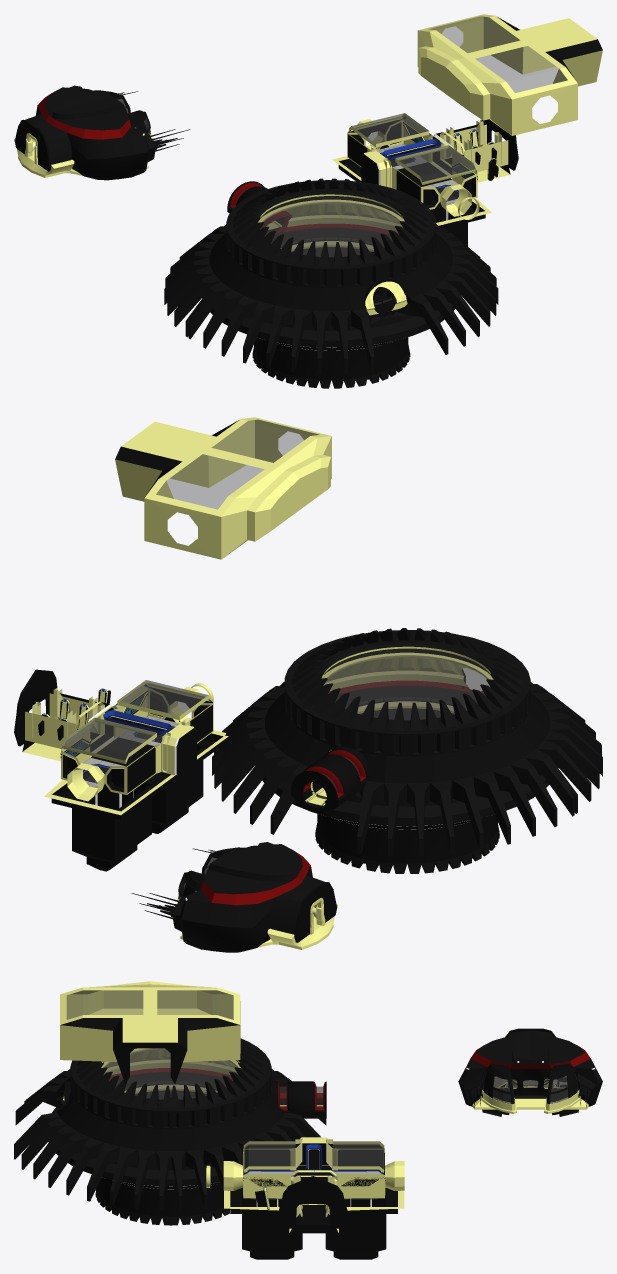
File: Salas.FBX
3 views of the same model, one above another, from view 1: azimuth 30°, elevation 25°; view 2: azimuth 150°, elevation 25°; view 3: azimuth 270°, elevation 25° (orthographic). The views are drawn at different scales.
Parts seen in each view (by area): view 1: Sala01, Sala00, RoomRoof, Crystal, Sala02, Cylinder002, Line011, Line008; view 2: Sala01, Sala00, RoomRoof, Crystal, Cylinder002, Sala02, Line008, Line011; view 3: Sala01, Sala00, RoomRoof, Sala02, Crystal, Line008, Cylinder002.
Part boxes in pixels (x1=…): Sala01: x1=164, y1=178, x2=498, y2=388; Sala00: x1=332, y1=14, x2=602, y2=246; RoomRoof: x1=25, y1=85, x2=190, y2=180; Crystal: x1=258, y1=196, x2=404, y2=257; Sala02: x1=14, y1=90, x2=151, y2=177; Cylinder002: x1=227, y1=181, x2=291, y2=234; Line011: x1=14, y1=119, x2=51, y2=171; Line008: x1=481, y1=119, x2=518, y2=170; Sala01: x1=212, y1=628, x2=602, y2=873; Sala00: x1=22, y1=417, x2=331, y2=871; RoomRoof: x1=131, y1=842, x2=325, y2=952; Crystal: x1=322, y1=649, x2=492, y2=720; Cylinder002: x1=291, y1=748, x2=367, y2=811; Sala02: x1=176, y1=847, x2=337, y2=949; Line008: x1=14, y1=669, x2=57, y2=746; Line011: x1=294, y1=882, x2=336, y2=942; Sala01: x1=14, y1=1038, x2=326, y2=1225; Sala00: x1=60, y1=981, x2=404, y2=1259; RoomRoof: x1=458, y1=1030, x2=602, y2=1116; Sala02: x1=472, y1=1064, x2=588, y2=1113; Crystal: x1=101, y1=1048, x2=240, y2=1099; Line008: x1=277, y1=1176, x2=348, y2=1228; Cylinder002: x1=277, y1=1081, x2=326, y2=1118.
Bounding box in the file's own units: 3358 × 2293 × 4637.
